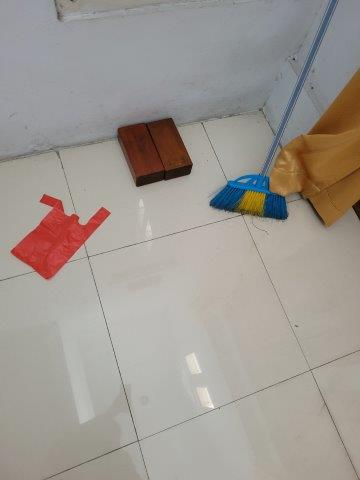plastik: (8, 194, 110, 278)
